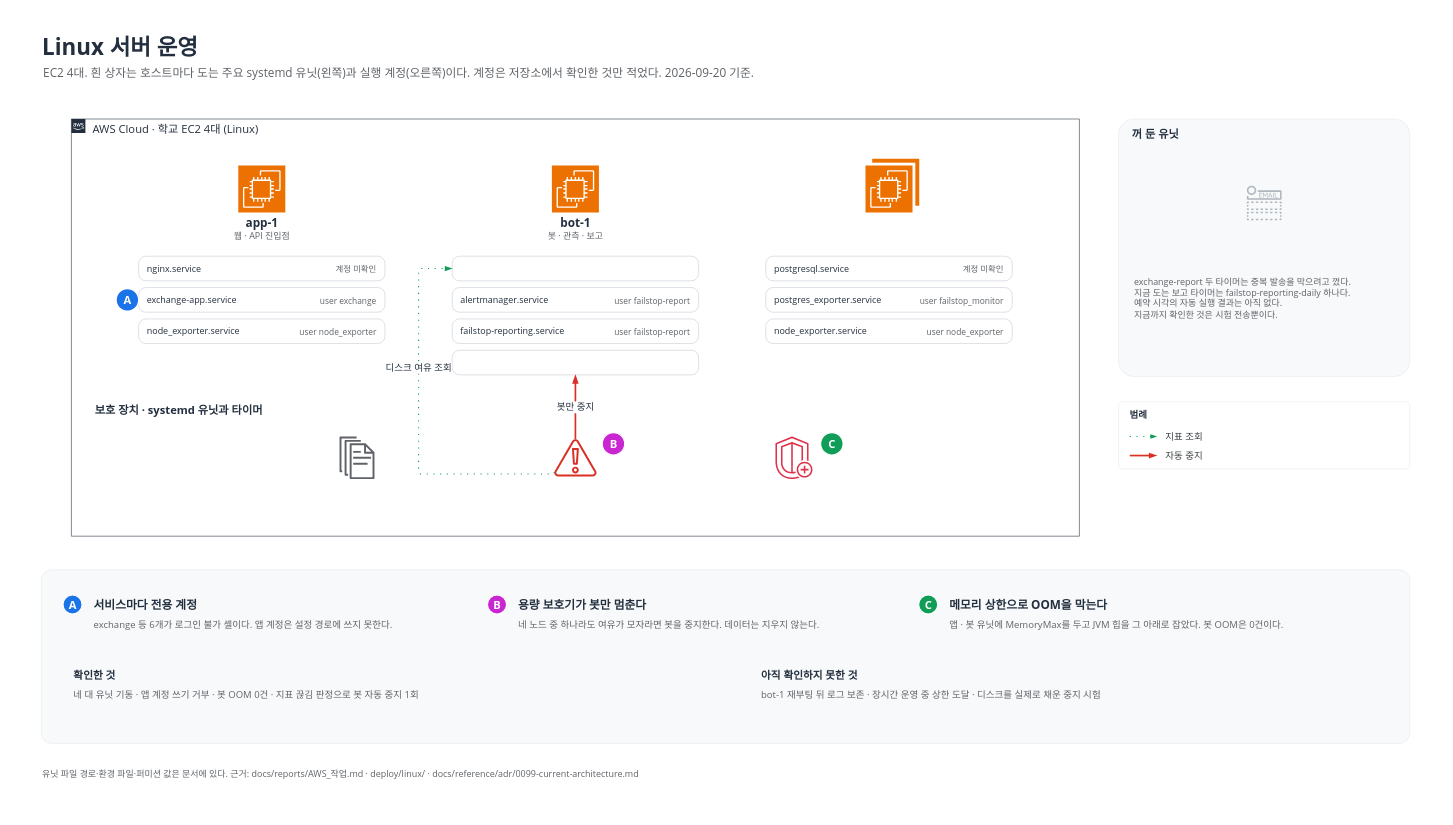
This 1453x825 diagram has some shape labels left out. The centre of each missing label's shape, as x and y in pixels:
"DB 2대 PostgreSQL 17 · 2 AZ" goes at [889,189].
"exchange-bot.service user exchange-bot" goes at [575,362].
"exchange-report daily · 09:00 정지 incident · 2분 주기 정지" goes at [1264,202].
"journald 상한 보존 7일 · 용량 상한 네 대 적용 · 보존 확인 app-1" goes at [356,457].
"prometheus.service user prometheus" goes at [575,268].
"메모리 상한 앱 · 봇 유닛에 MemoryMax JVM 힙은 그 아래로" goes at [793,457].
"용량 보호기 1분마다 네 노드 여유 점검 지표 끊김 3회 연속이면 중지" goes at [575,457].
